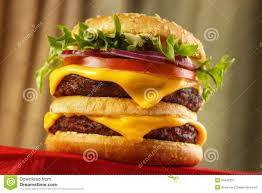hamburger: (42, 12, 211, 167)
